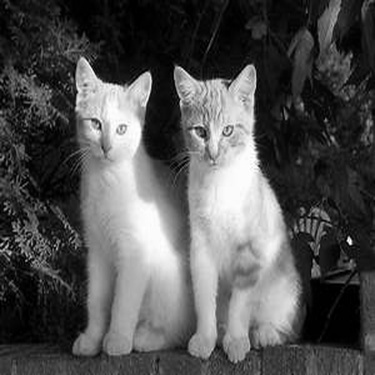cat: (169, 62, 303, 364), (63, 58, 191, 360)
